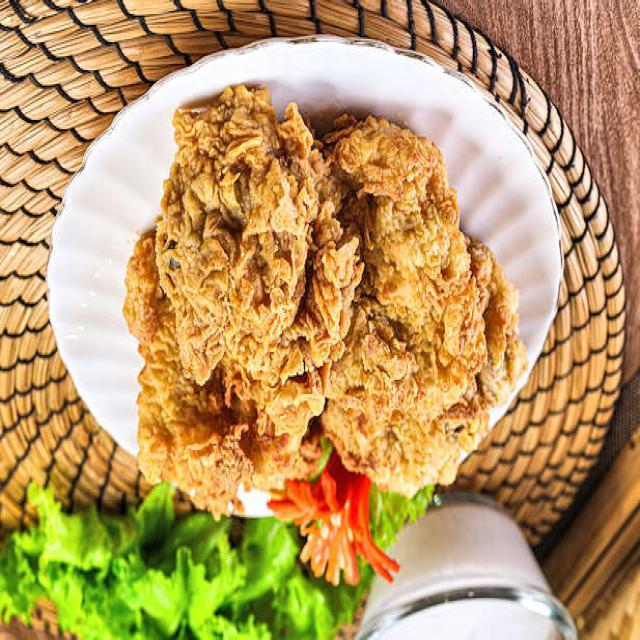ayam_goreng: (102, 72, 540, 521)
